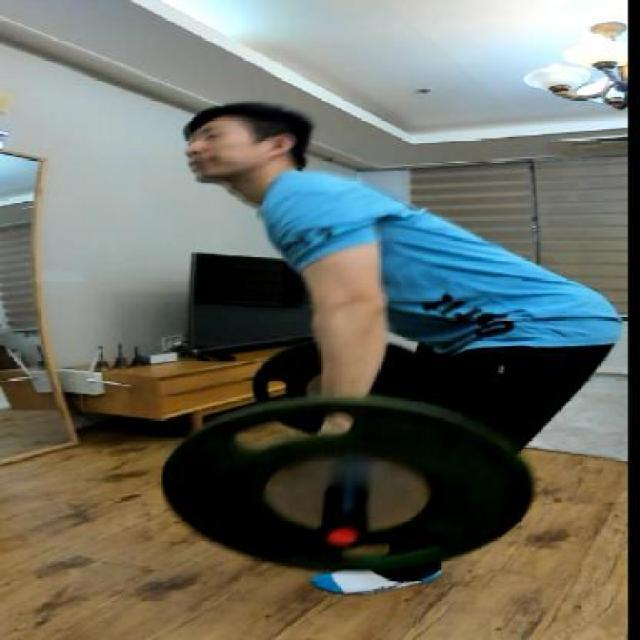Barbell: (303, 516, 389, 553)
